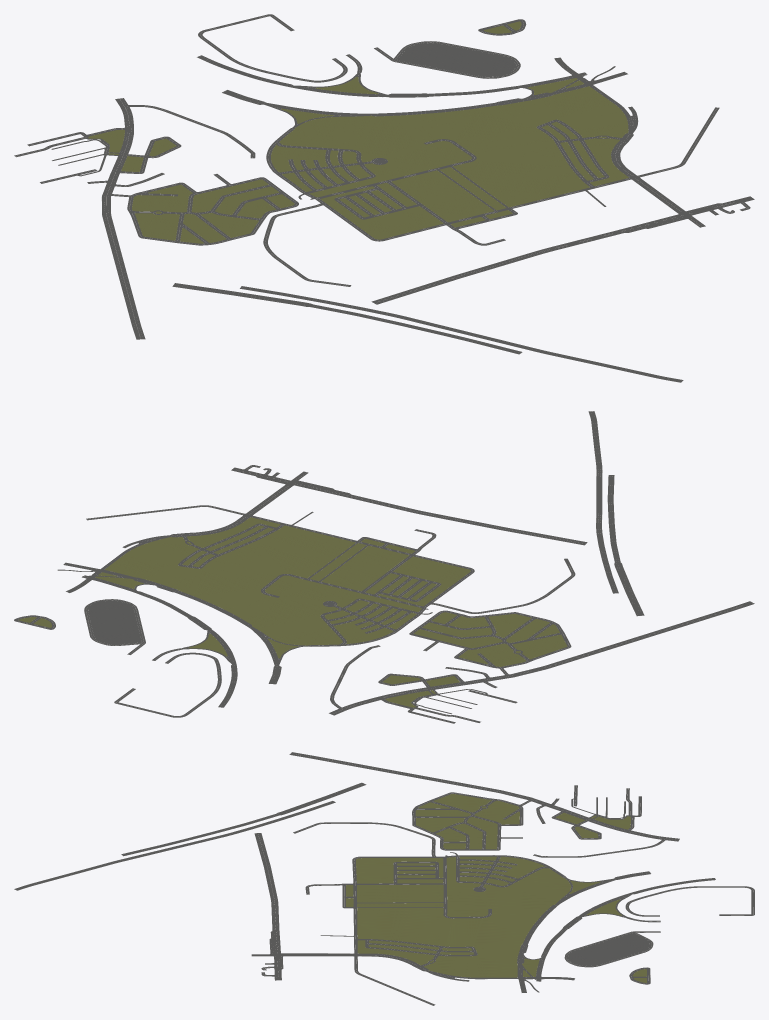
The model's file is ServiceCenterRoadMR.fbx.
3 views of the same model, one above another, from view 1: azimuth 30°, elevation 25°; view 2: azimuth 150°, elevation 25°; view 3: azimuth 270°, elevation 25° (orthographic). The views are drawn at different scales.
Visible parts, largest first — view 1: Terrain, Roads; view 2: Terrain, Roads; view 3: Terrain, Roads.
Boxes of the visible parts, x1,y1,x2,y2 form: Terrain: [88, 21, 628, 243]; Roads: [14, 14, 754, 382]; Terrain: [19, 517, 567, 707]; Roads: [14, 411, 754, 723]; Terrain: [346, 794, 646, 982]; Roads: [14, 752, 754, 1005].
Size of the model in its own units: 1188 by 1465 by 0.
4 materials, 4 textured.
